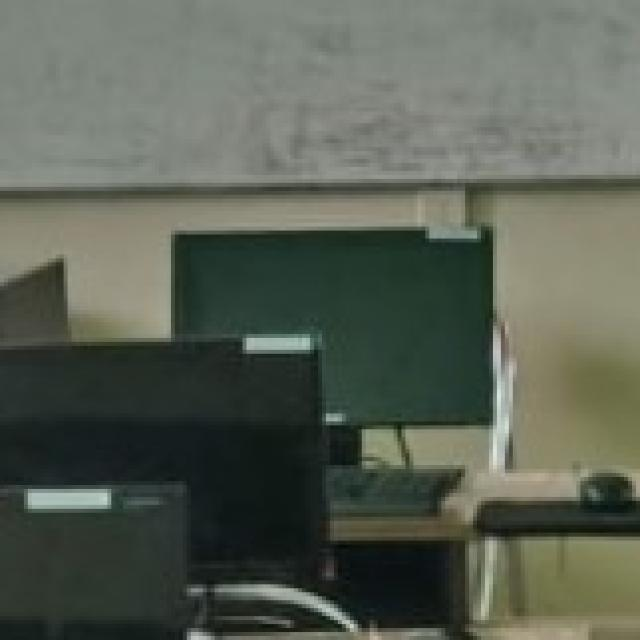offscreen: (0, 340, 322, 561), (176, 230, 490, 426)
